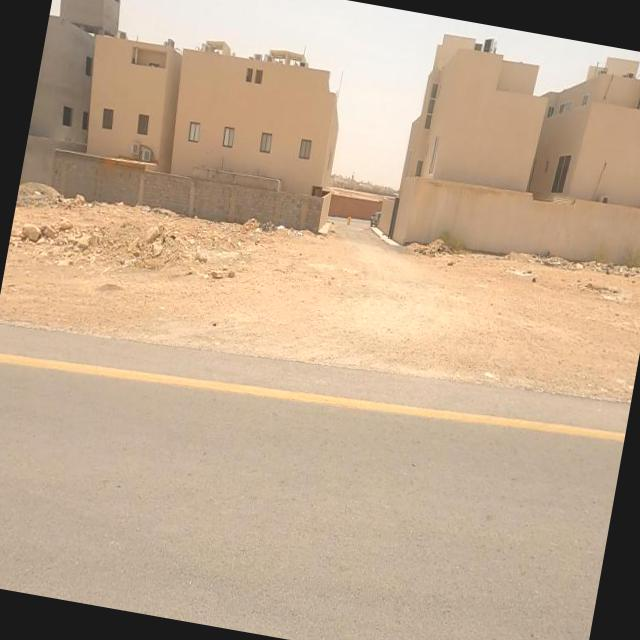debris: (236, 189, 312, 268), (534, 230, 586, 294)
